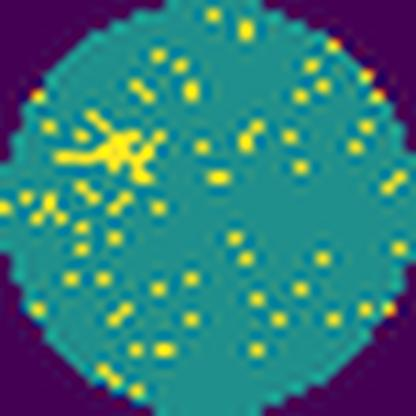Edge-Loc: (51, 110, 165, 184)
